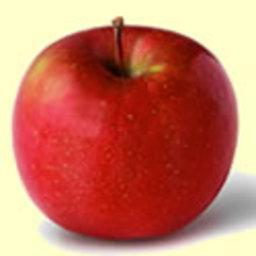apple: (13, 21, 239, 239)
